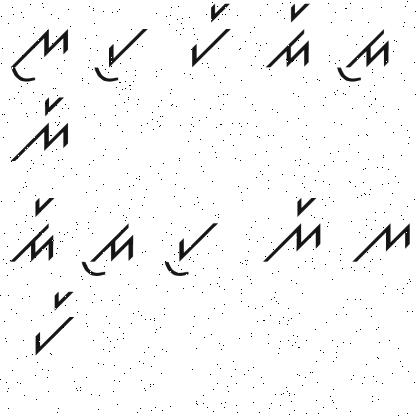dar: (8, 193, 63, 265), (264, 3, 317, 74)
daw: (75, 216, 138, 280), (327, 25, 395, 84)
na: (346, 214, 412, 264)
nar: (261, 193, 333, 266), (12, 92, 76, 164)
naw: (5, 23, 71, 87)
par: (22, 291, 80, 357), (184, 3, 236, 68)
paw: (90, 20, 153, 86), (160, 217, 224, 281)
